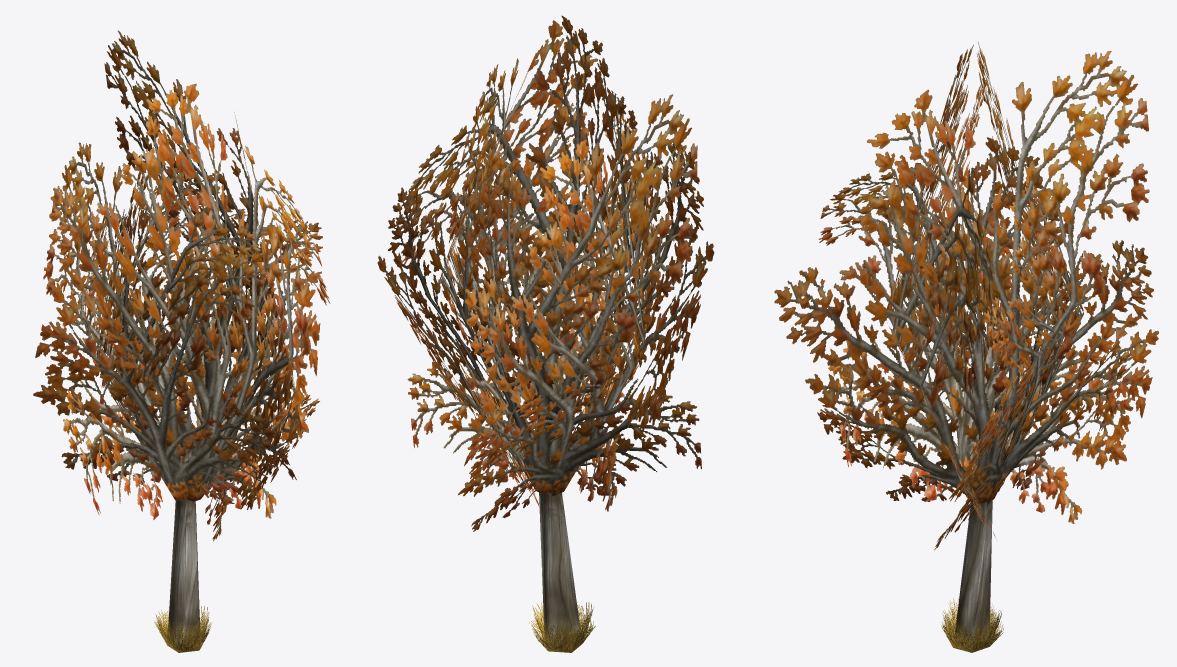
File: westfalltree03.obj
3 views of the same model, side by side, from view 1: azimuth 30°, elevation 25°; view 2: azimuth 150°, elevation 25°; view 3: azimuth 270°, elevation 25° (orthographic). The views are drawn at different scales.
Parts seen in each view (by area): view 1: Geoset0, Geoset1, Geoset2; view 2: Geoset0, Geoset1, Geoset2; view 3: Geoset0, Geoset1, Geoset2.
Boxes of the visible parts, left/top/right/bottom form: Geoset0: left=33, top=30, right=330, bottom=541; Geoset1: left=167, top=499, right=200, bottom=652; Geoset2: left=154, top=606, right=211, bottom=652; Geoset0: left=377, top=15, right=714, bottom=531; Geoset1: left=539, top=492, right=581, bottom=652; Geoset2: left=529, top=602, right=595, bottom=652; Geoset0: left=774, top=41, right=1158, bottom=550; Geoset1: left=954, top=500, right=992, bottom=652; Geoset2: left=941, top=598, right=1003, bottom=652.
Size of the model in its own units: 11.47 by 21.41 by 13.46.
Materials: 3 (3 with a texture image).
